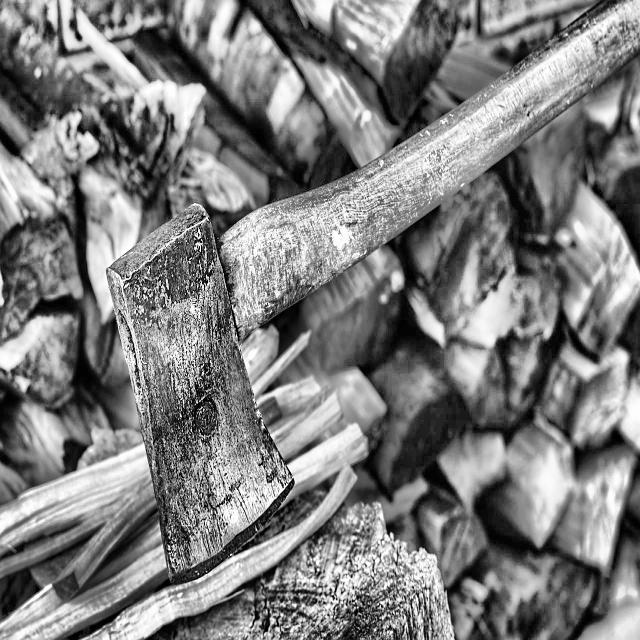kapak: (104, 0, 640, 588)
